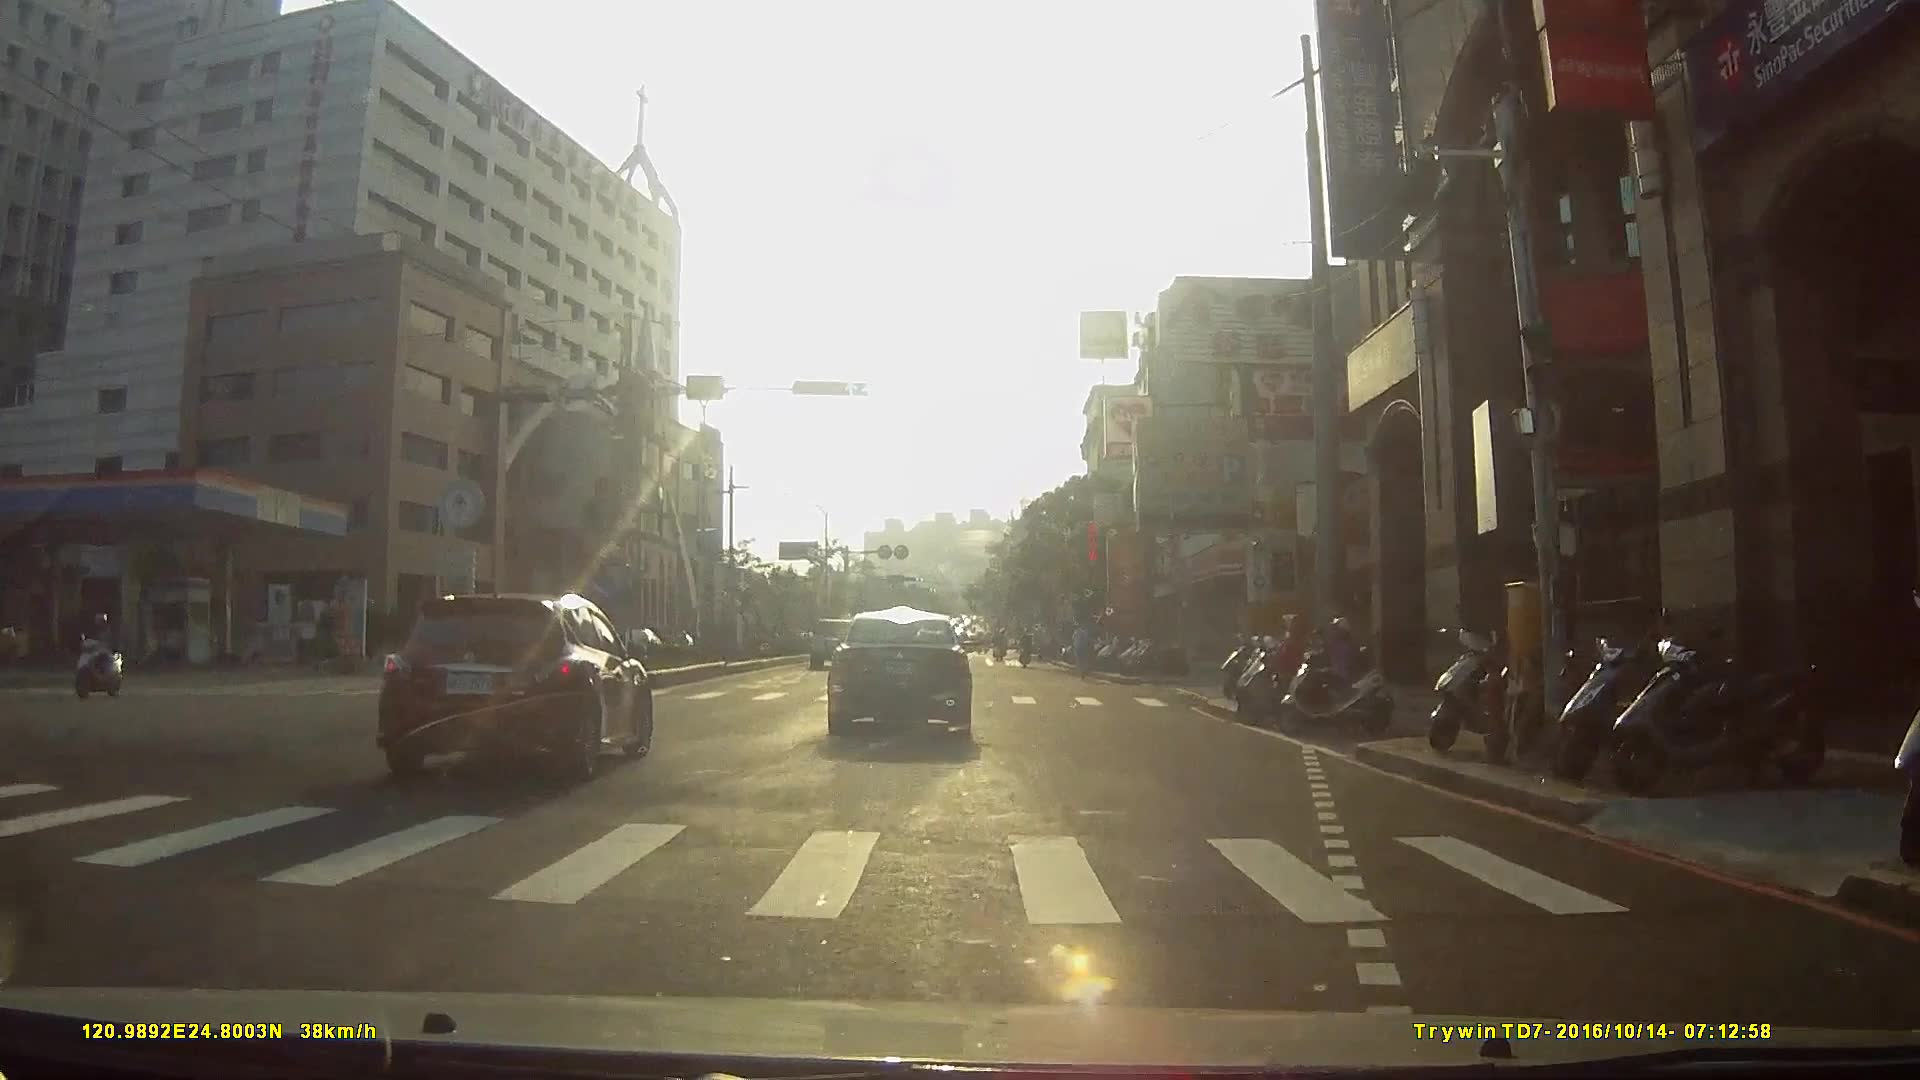rider: (1271, 614, 1400, 747), (1229, 613, 1333, 725), (68, 612, 122, 699)
vehicle: (377, 583, 666, 784), (829, 605, 988, 746), (814, 612, 873, 667)
